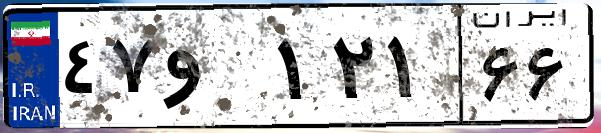1: (270, 28, 330, 110), (385, 28, 445, 110)
2: (330, 28, 385, 110)
4: (57, 26, 110, 100)
6: (475, 38, 525, 113), (525, 38, 570, 115)
7: (110, 28, 158, 98)
و: (158, 20, 270, 120)
